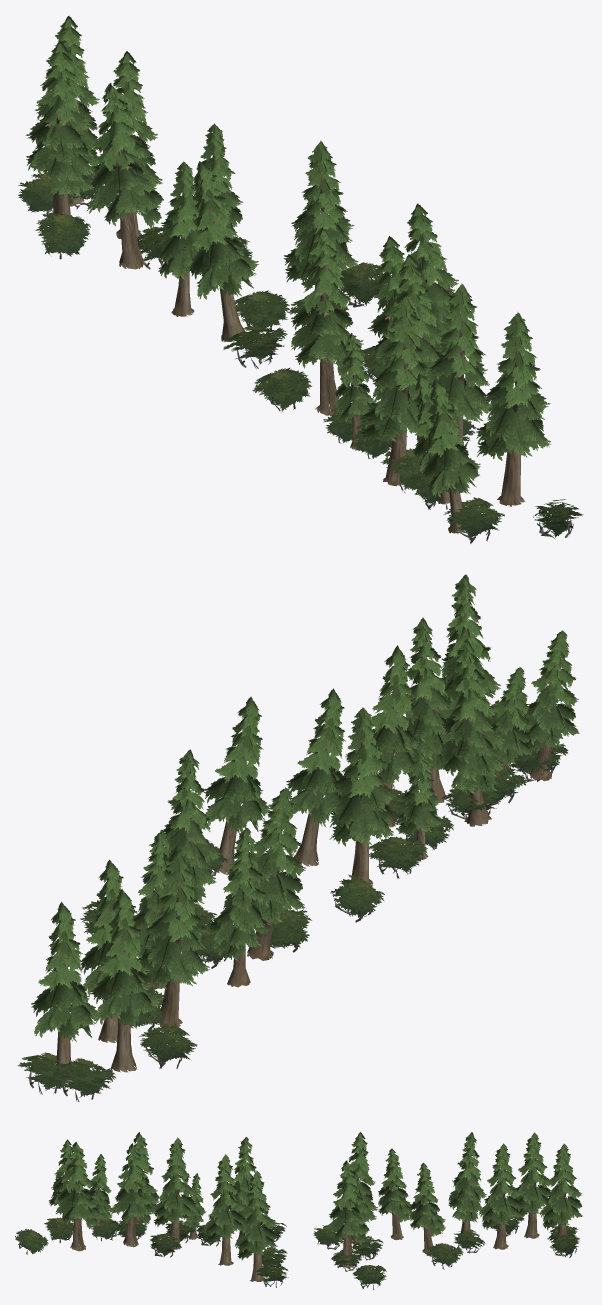
The model's file is Treetreingreen_LOD (2).fbx.
The picture shows the model from 3 angles, top to bottom: view 1: azimuth 30°, elevation 25°; view 2: azimuth 150°, elevation 25°; view 3: azimuth 270°, elevation 25°; orthographic projection. The views are drawn at different scales.
Visible parts, largest first — view 1: Treetreingreen_LOD0; view 2: Treetreingreen_LOD0; view 3: Treetreingreen_LOD0.
Part boxes in pixels (<box>): Treetreingreen_LOD0: <box>18,16,583,543</box>; Treetreingreen_LOD0: <box>17,574,579,1101</box>; Treetreingreen_LOD0: <box>15,1132,582,1289</box>.
Size of what is drawn, in the model's own units: 2837 by 2357 by 10331.
